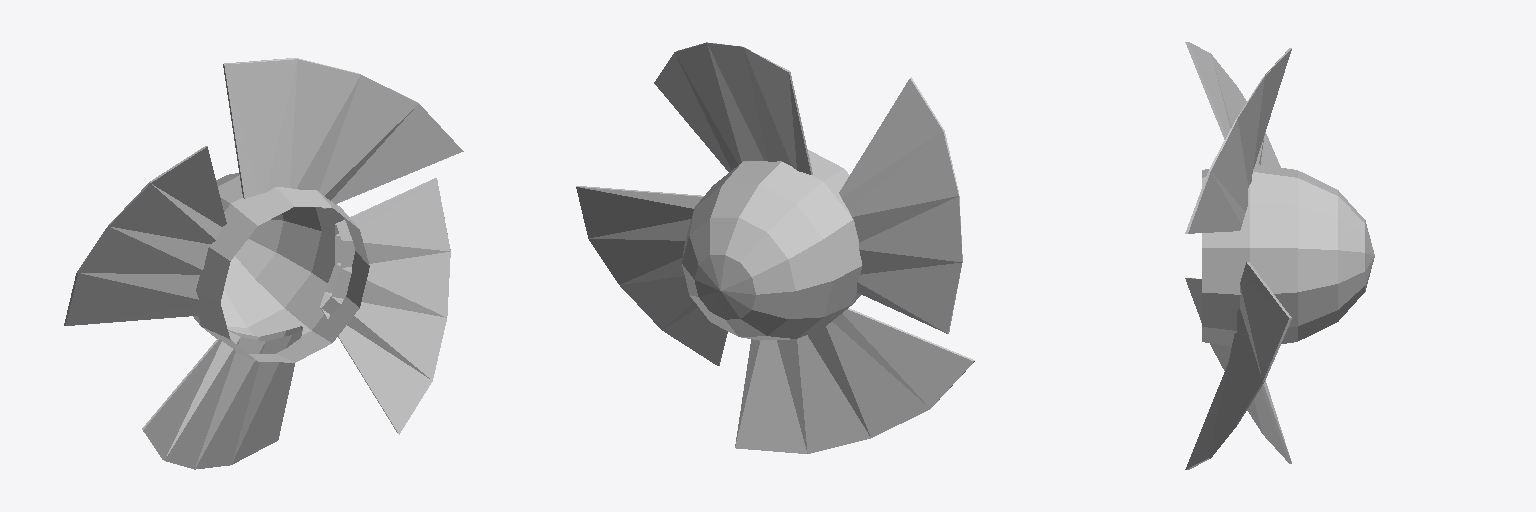
File: prop_top_left.obj
3 views of the same model, side by side, from view 1: azimuth 30°, elevation 25°; view 2: azimuth 150°, elevation 25°; view 3: azimuth 270°, elevation 25° (orthographic).
Visible parts, largest first — view 1: rdmobj00.160, rdmobj00.208, rdmobj00.159, rdmobj00.031, rdmobj00.162; view 2: rdmobj00.208, rdmobj00.162, rdmobj00.031, rdmobj00.160, rdmobj00.159; view 3: rdmobj00.208, rdmobj00.159, rdmobj00.160, rdmobj00.031, rdmobj00.162.
Boxes of the visible parts, x1=… form: rdmobj00.160: x1=223, y1=58, x2=463, y2=209; rdmobj00.208: x1=193, y1=173, x2=369, y2=362; rdmobj00.159: x1=320, y1=178, x2=450, y2=434; rdmobj00.031: x1=64, y1=146, x2=226, y2=325; rdmobj00.162: x1=142, y1=326, x2=302, y2=469; rdmobj00.208: x1=682, y1=150, x2=862, y2=340; rdmobj00.162: x1=735, y1=308, x2=974, y2=453; rdmobj00.031: x1=839, y1=77, x2=962, y2=333; rdmobj00.160: x1=654, y1=42, x2=812, y2=174; rdmobj00.159: x1=576, y1=186, x2=727, y2=365; rdmobj00.208: x1=1202, y1=164, x2=1374, y2=345; rdmobj00.159: x1=1185, y1=262, x2=1291, y2=469; rdmobj00.160: x1=1185, y1=48, x2=1291, y2=233; rdmobj00.031: x1=1185, y1=42, x2=1280, y2=167; rdmobj00.162: x1=1185, y1=278, x2=1291, y2=463.
Size of the model in its own units: 94.73 by 94.73 by 41.66.